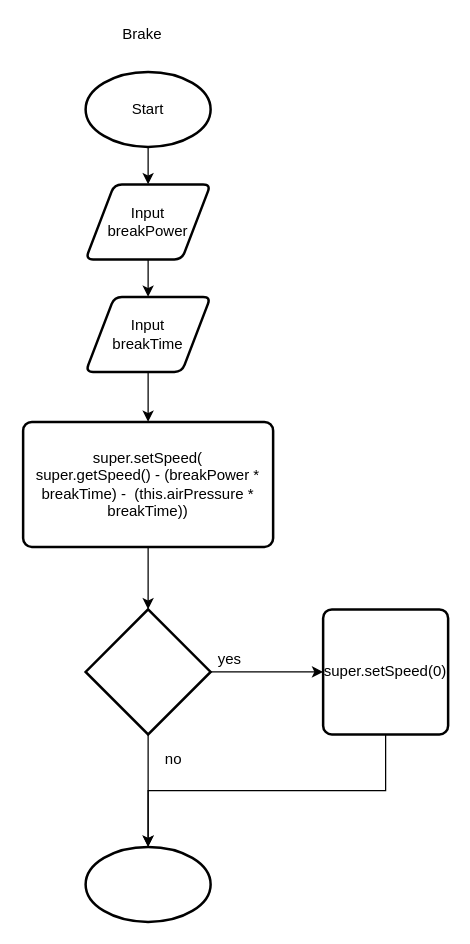
The diagram is 470 pixels wide and 944 high, and some of its shapes have lost their labels. Here are the shapes that lost their labels. From the top down, the centre of each, then its label:
At (147,671): "if super.getSpeed() < 0".
At (147,883): "Stop".
